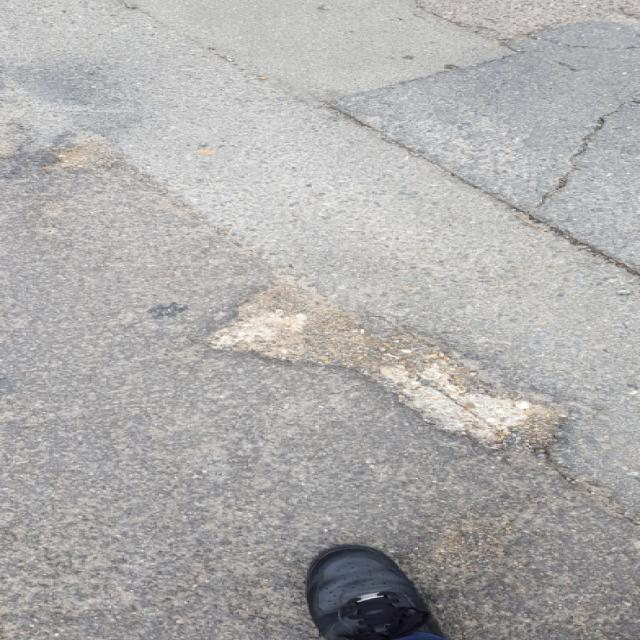Pothole: (184, 187, 374, 586)
